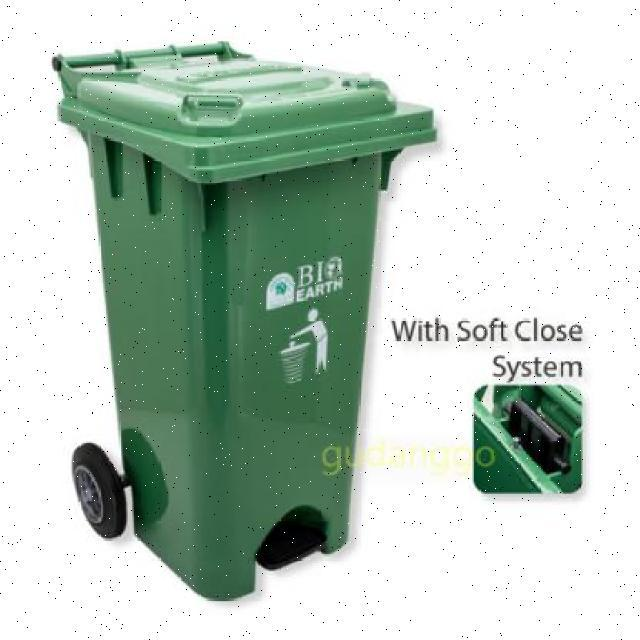garbage container: (37, 29, 448, 611)
